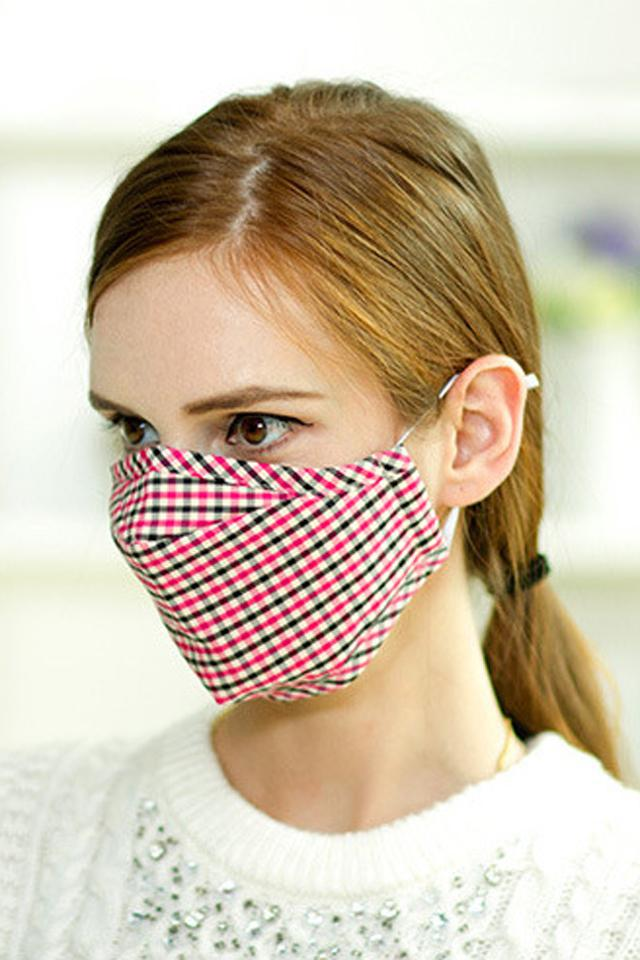OK: (91, 369, 437, 715)
